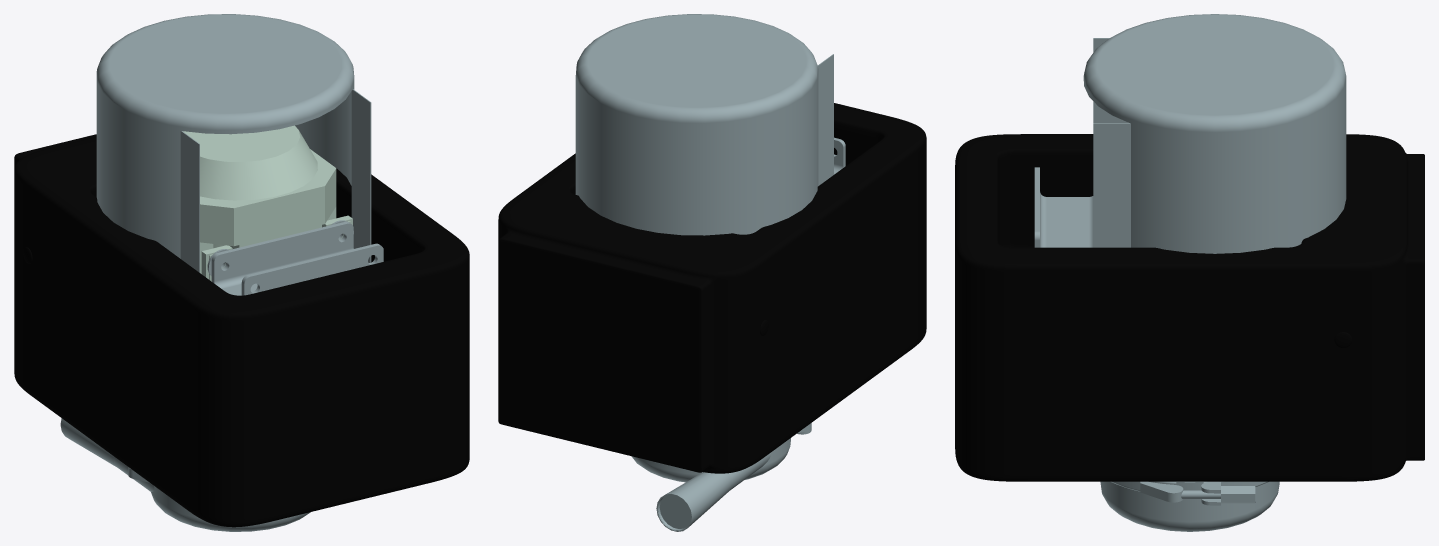
The model's file is wangyu.fbx.
The picture shows the model from 3 angles, left to right: view 1: azimuth 30°, elevation 25°; view 2: azimuth 150°, elevation 25°; view 3: azimuth 270°, elevation 25°; orthographic projection. The views are drawn at different scales.
Visible parts, largest first — view 1: WWW.6MO.CN_WWW.6MO.CN_YOA_0001, stitch_result_stitch all; view 2: WWW.6MO.CN_WWW.6MO.CN_YOA_0001, stitch_result_stitch all; view 3: WWW.6MO.CN_WWW.6MO.CN_YOA_0001, stitch_result_stitch all.
Boxes of the visible parts, box(x1,y1,x2,y2) form: WWW.6MO.CN_WWW.6MO.CN_YOA_0001: box(14, 134, 469, 527); stitch_result_stitch all: box(60, 14, 383, 531); WWW.6MO.CN_WWW.6MO.CN_YOA_0001: box(498, 103, 926, 473); stitch_result_stitch all: box(575, 14, 845, 531); WWW.6MO.CN_WWW.6MO.CN_YOA_0001: box(955, 134, 1424, 481); stitch_result_stitch all: box(1034, 14, 1346, 531).
Bounding box in the file's own units: 14.58 × 22.44 × 21.45.
